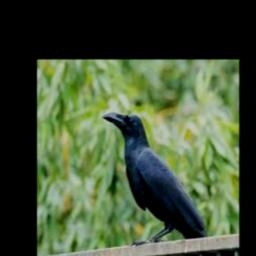Crow: (102, 112, 216, 256)
